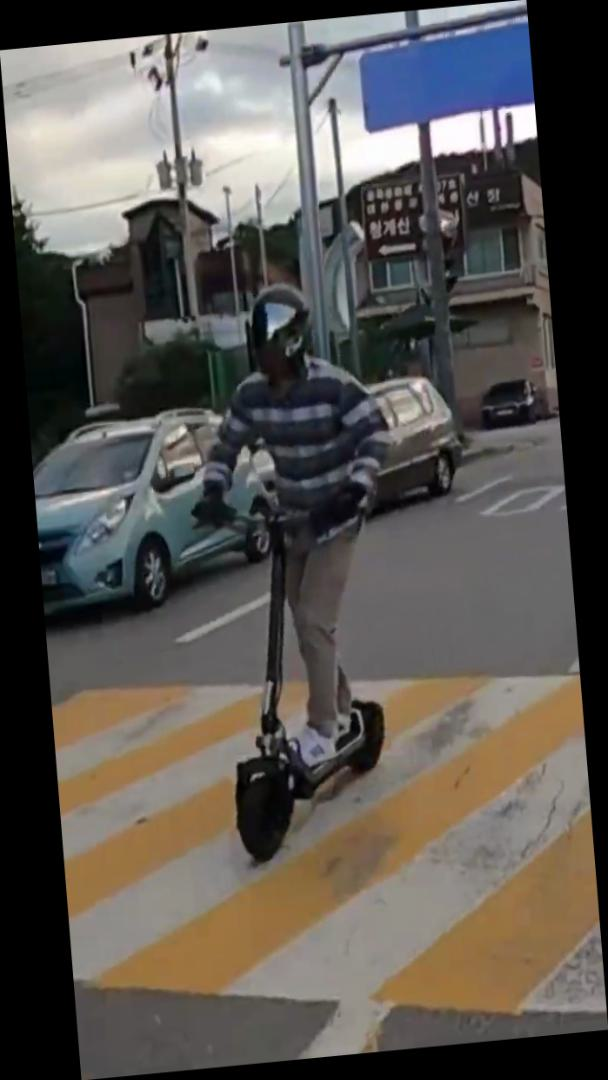helmet: (181, 272, 427, 869)
